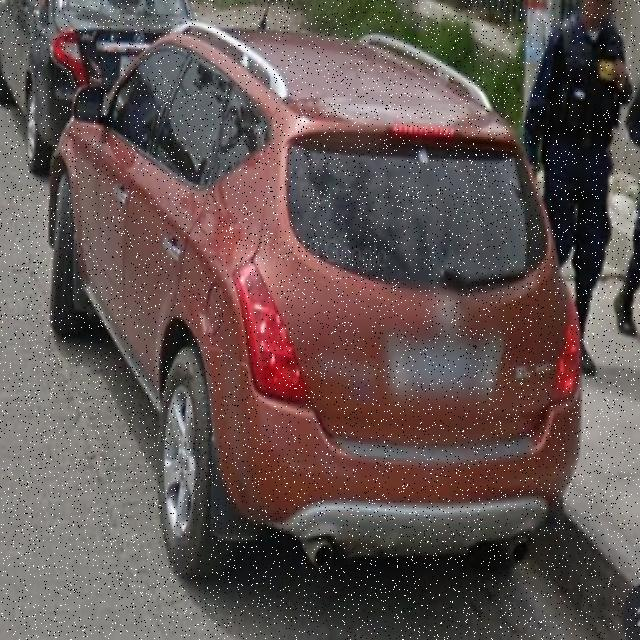cars: (51, 28, 582, 572)
